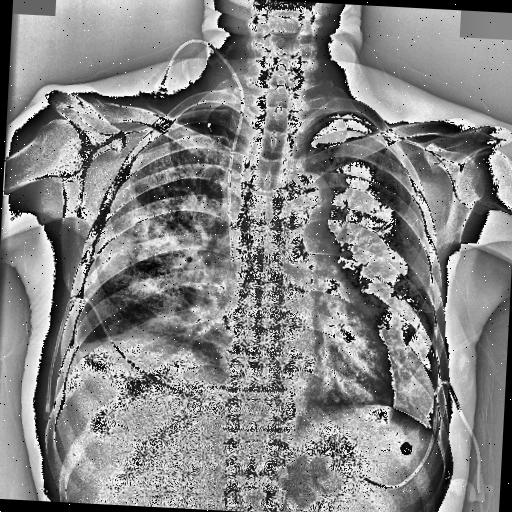0- Aortic enlargement: (270, 168, 334, 234)
10- Pleural effusion: (54, 332, 216, 408), (56, 327, 90, 416), (64, 327, 92, 374)
11- Pleural thickening: (56, 327, 90, 416), (64, 327, 92, 374), (176, 99, 231, 122)
3- Cardiomegaly: (182, 292, 400, 417), (192, 288, 400, 418)
4- Consolidation: (94, 108, 250, 376), (93, 102, 241, 380), (83, 119, 232, 353)
6- Infiltration: (326, 254, 424, 332)
7- Lung Opacity: (94, 108, 250, 376), (93, 102, 241, 380), (83, 119, 232, 353), (326, 254, 424, 332)
